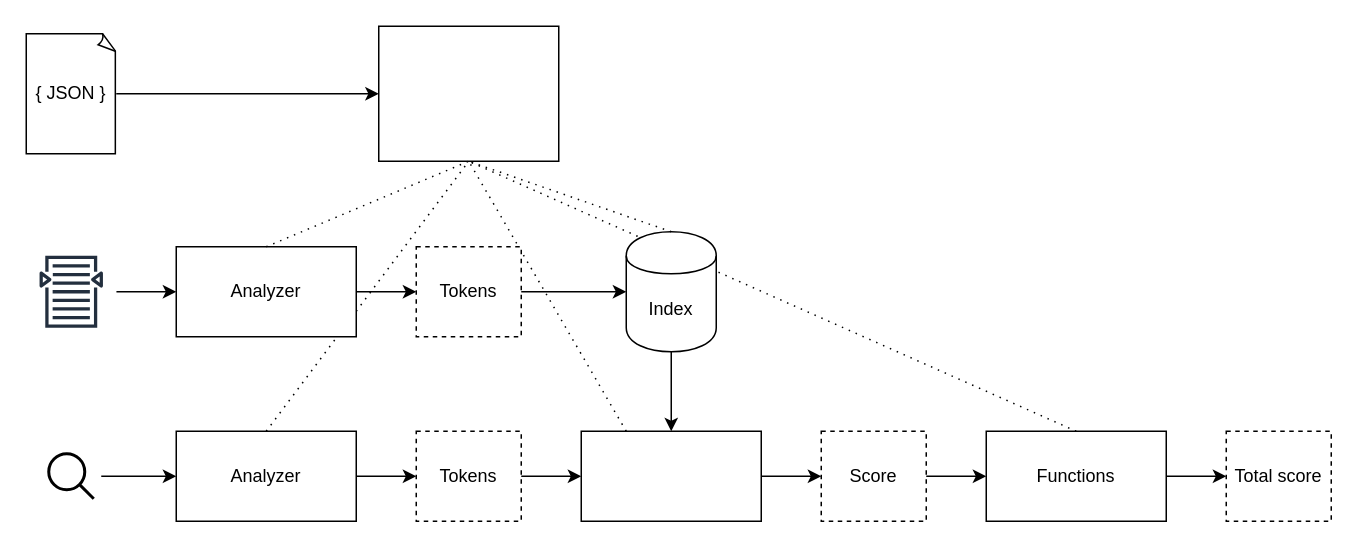
Some shapes in this 1358 by 557 pixel diagram are drawn without their labels. The shapes that lost their labels are listed below. From the top down, each one's box as (x1, y1, x2, y2) in pixels, then its label:
(377, 25, 559, 161): Index definition Fields Weights Scoring profiles
(25, 245, 116, 337): Documents
(46, 452, 94, 500): Query
(580, 430, 761, 521): Frequency Algorithm + Apply weights
